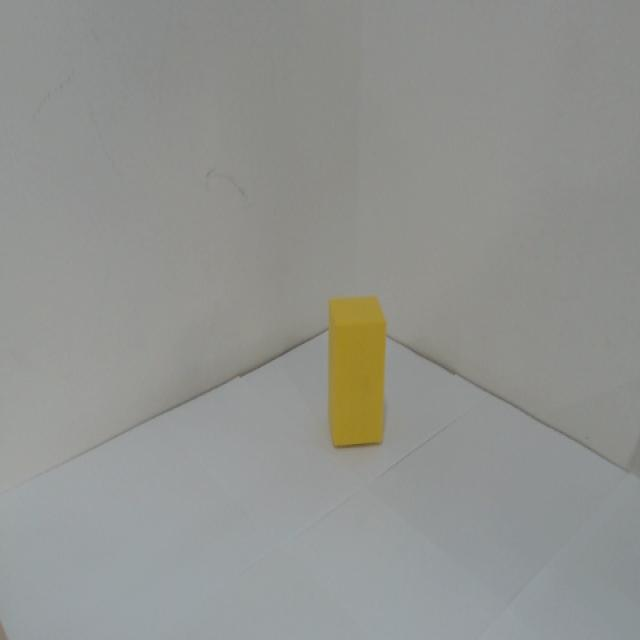cube: (321, 291, 392, 451)
